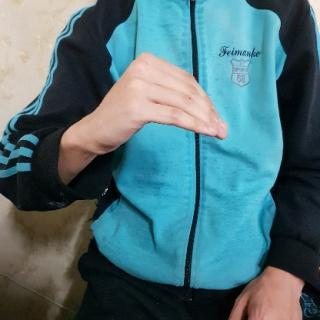HAA: (81, 49, 234, 168)
